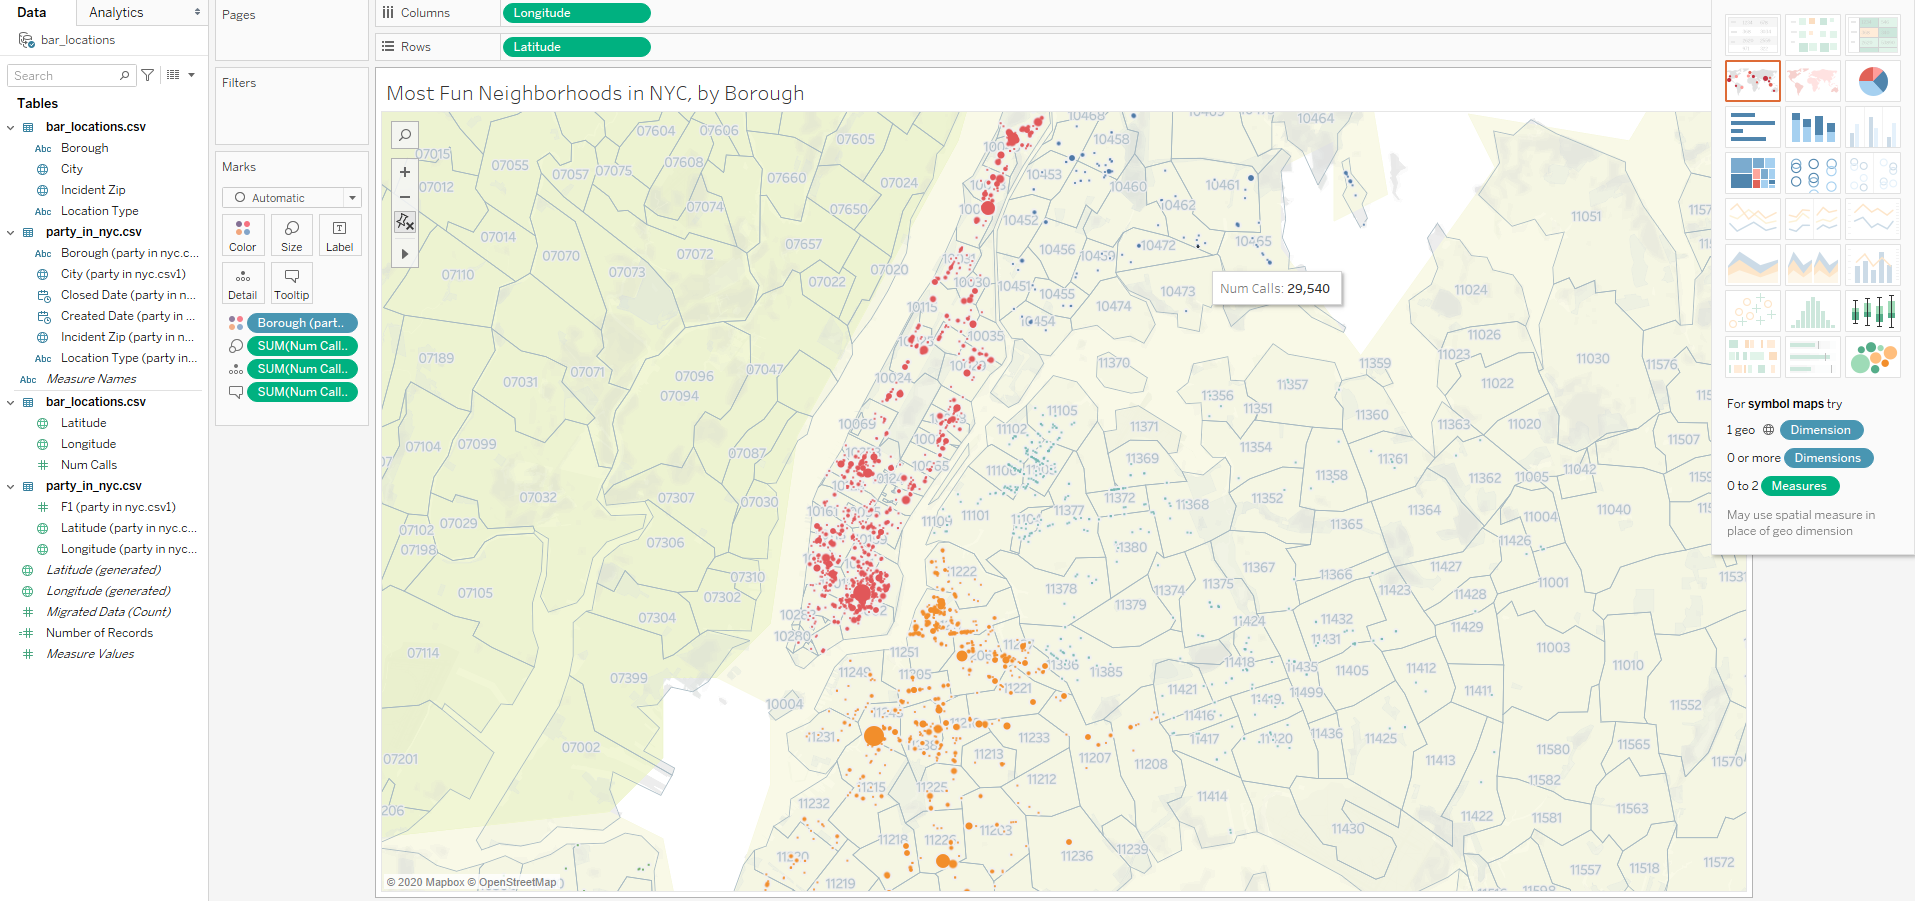

The dashboard page shown, as its layout file describes it:
{"tool":"tableau","page":{"name":"Dashboard 1","canvas":[850,1100],"ordinal":0},"visuals":[{"type":"worksheet","title":"Locations and Complaints","mark":"Automatic","rows":["num_calls"],"cols":["Location Type (party_in_nyc.csv1)","Borough"],"box":[37,12,692,573]}]}

Visuals, with their boxes on the page's 850x1100 design canvas (x1, y1, x2, y2). These are canvas units, not pixel positions in the 1915x901 screenshot, which may show the page scaled, cropped or inside an application window:
"Locations and Complaints" worksheet: [37,12,729,585]
